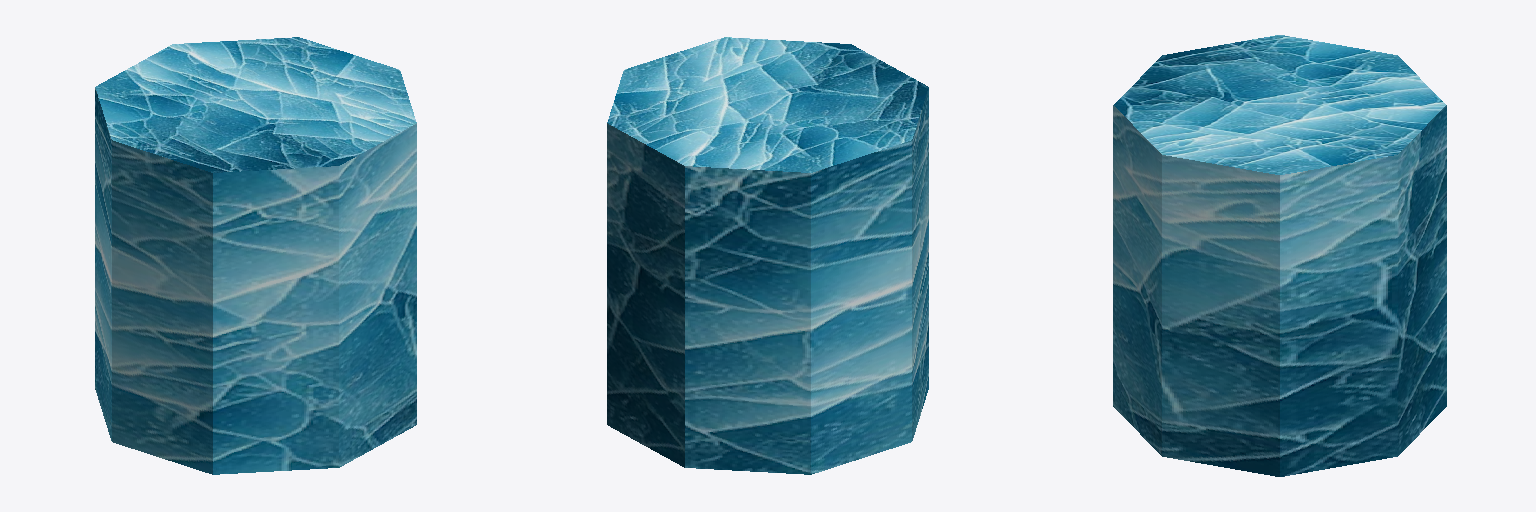
The picture shows the model from 3 angles: view 1: azimuth 30°, elevation 25°; view 2: azimuth 150°, elevation 25°; view 3: azimuth 270°, elevation 25°; orthographic projection.
Parts seen in each view (by area): view 1: Gengon001; view 2: Gengon001; view 3: Gengon001.
Part boxes in pixels (x1,y1,x2,y2): Gengon001: (95,37,416,474); Gengon001: (607,37,928,474); Gengon001: (1113,35,1446,476).
Size of the model in its own units: 6 by 6 by 6.
1 materials, 1 textured.